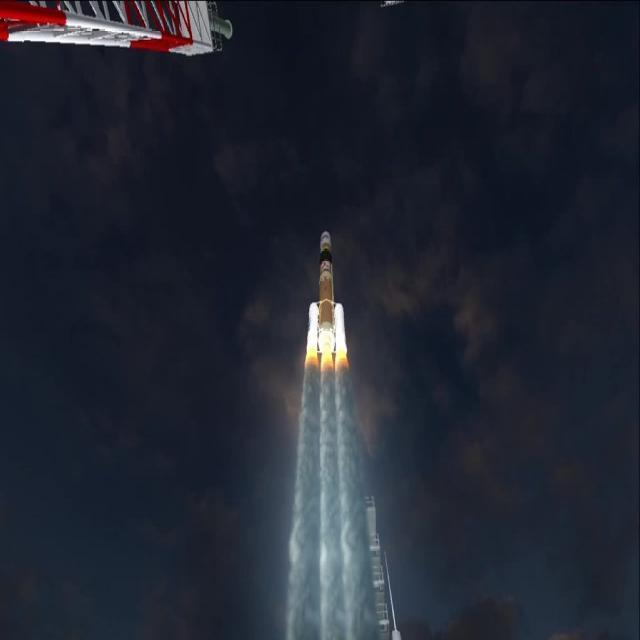missile: (307, 228, 348, 360)
